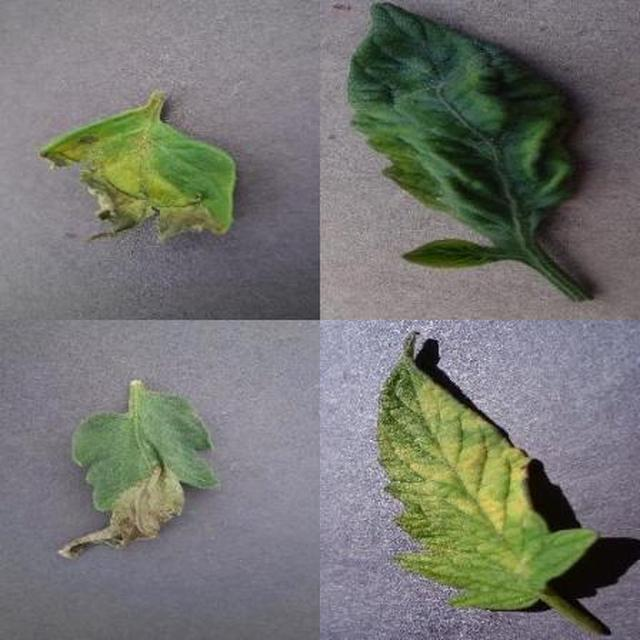Late Blight Leaf: (146, 50, 640, 640)
